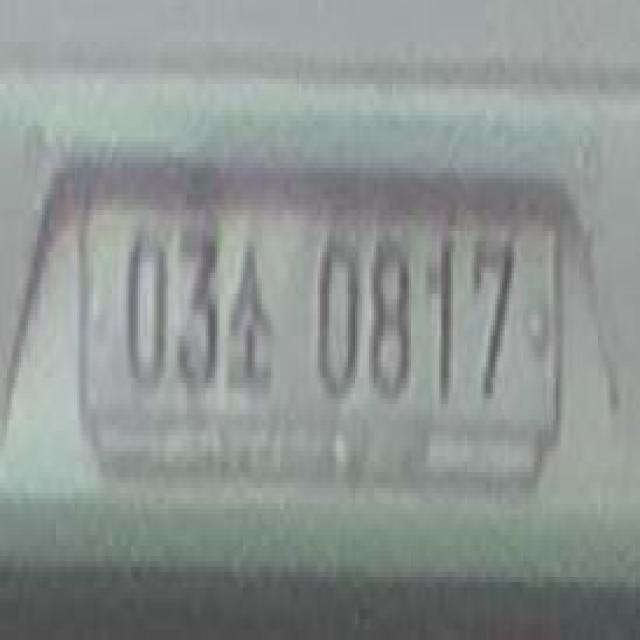illegal_plate: (78, 162, 568, 517)
